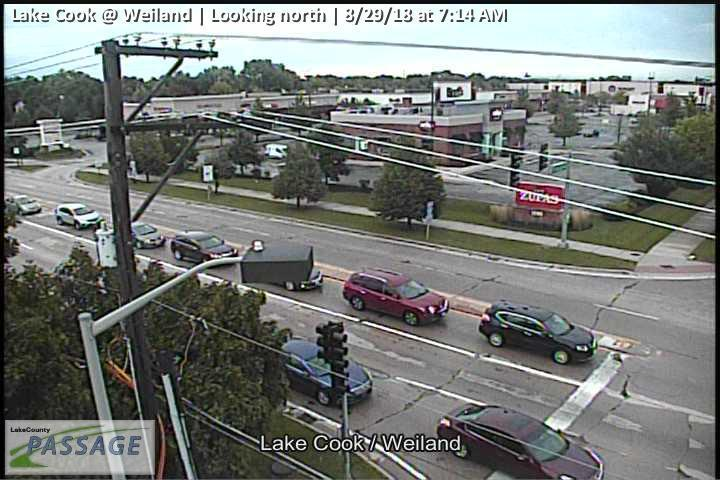SUV: (476, 299, 599, 367), (341, 265, 450, 326)
Sedan: (433, 402, 605, 480), (275, 336, 373, 408), (169, 228, 240, 267), (55, 203, 102, 231), (122, 221, 165, 250), (2, 193, 42, 216)
